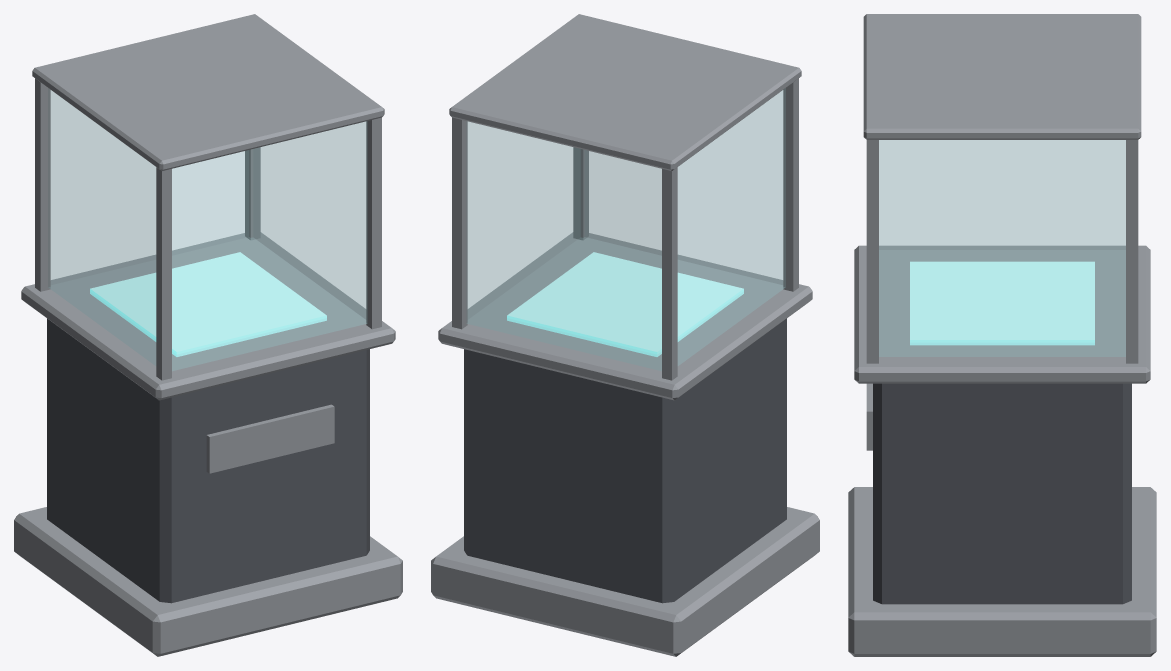
The model's file is lt_trophy_ht.glb.
The picture shows the model from 3 angles, left to right: view 1: azimuth 30°, elevation 25°; view 2: azimuth 150°, elevation 25°; view 3: azimuth 270°, elevation 25°; orthographic projection. The views are drawn at different scales.
Visible parts, largest first — view 1: lt_trophy_ht; view 2: lt_trophy_ht; view 3: lt_trophy_ht.
Part boxes in pixels (x1=…): lt_trophy_ht: x1=14, y1=14, x2=402, y2=656; lt_trophy_ht: x1=431, y1=14, x2=819, y2=656; lt_trophy_ht: x1=848, y1=14, x2=1156, y2=656.
Bounding box in the file's own units: 1 × 1.87 × 1.
